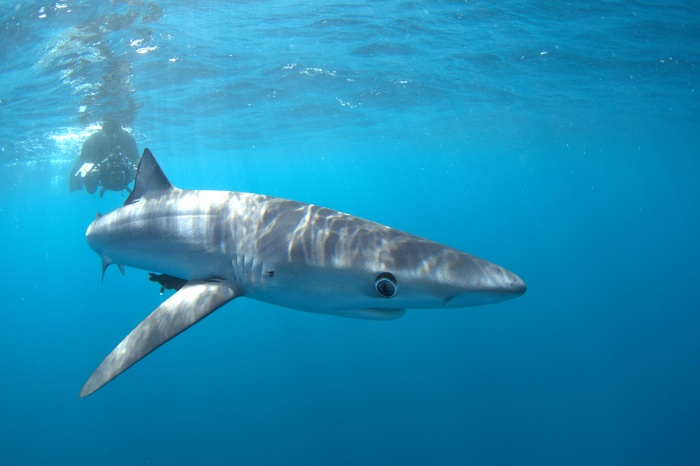Azul: (70, 140, 533, 409)
